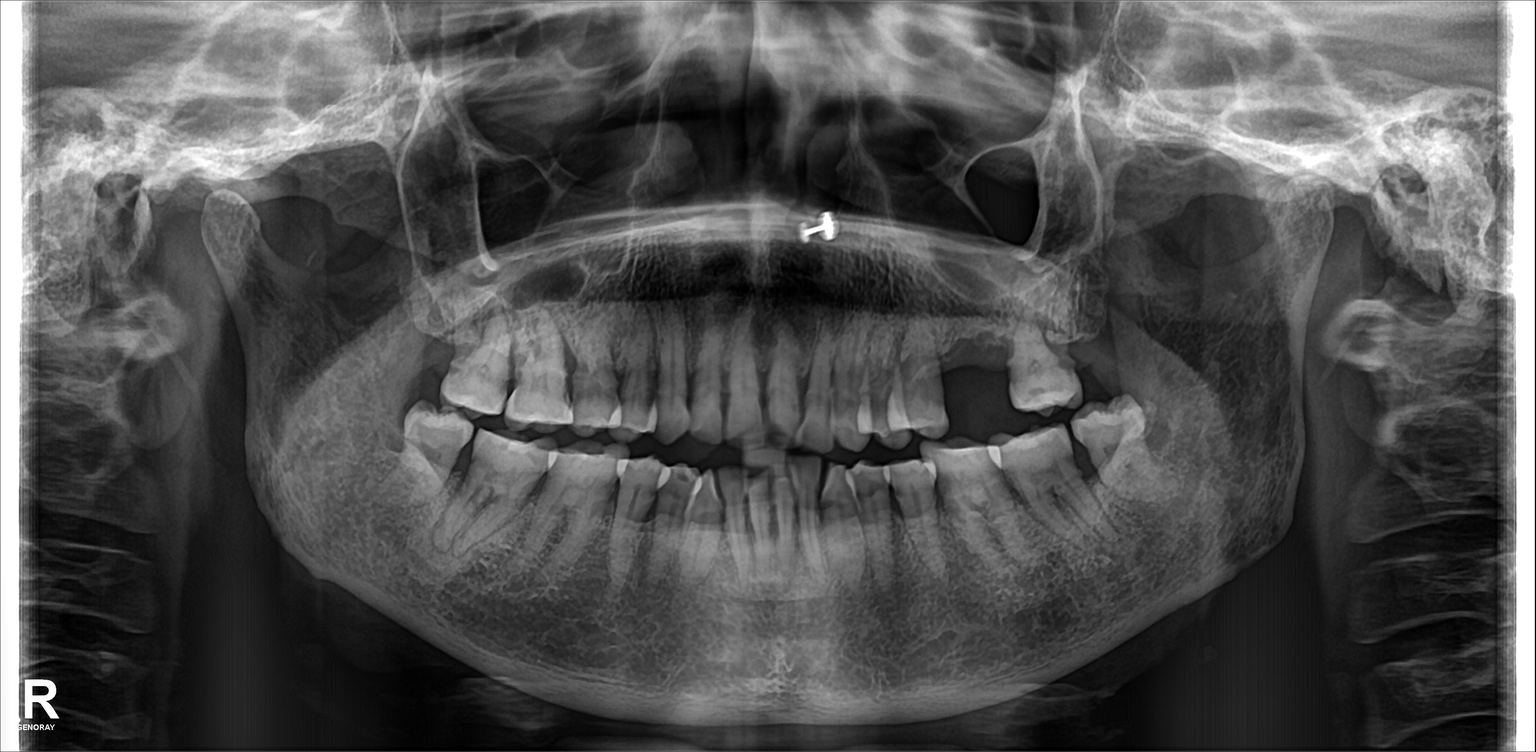Missing Tooth: (399, 316, 453, 396), (976, 328, 1012, 417), (1069, 315, 1108, 384), (940, 341, 968, 423)
